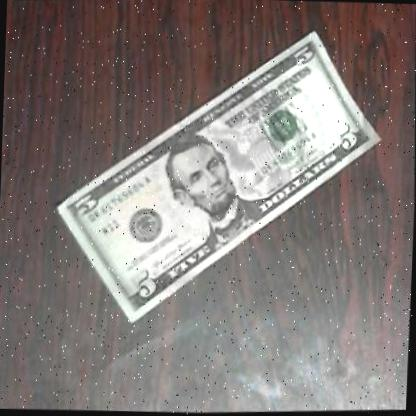five-front: (43, 17, 392, 336)
